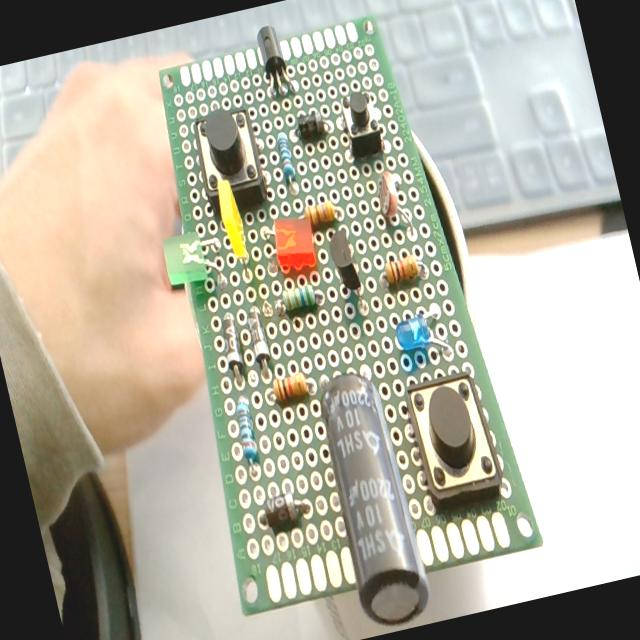Electrolytic capacitor: (307, 366, 433, 633)
cds: (372, 167, 416, 240)
diode: (216, 312, 250, 388), (242, 304, 274, 379), (258, 488, 312, 530), (294, 109, 326, 142)
led: (391, 307, 454, 371), (268, 210, 320, 276), (158, 227, 212, 290), (212, 174, 250, 260)
resistor: (231, 396, 263, 464), (272, 128, 299, 186), (270, 371, 310, 404), (382, 252, 420, 286), (302, 198, 338, 229), (280, 282, 316, 313)
switch: (402, 368, 506, 511), (189, 104, 271, 217), (336, 86, 386, 160)
transistor: (326, 223, 369, 315)
